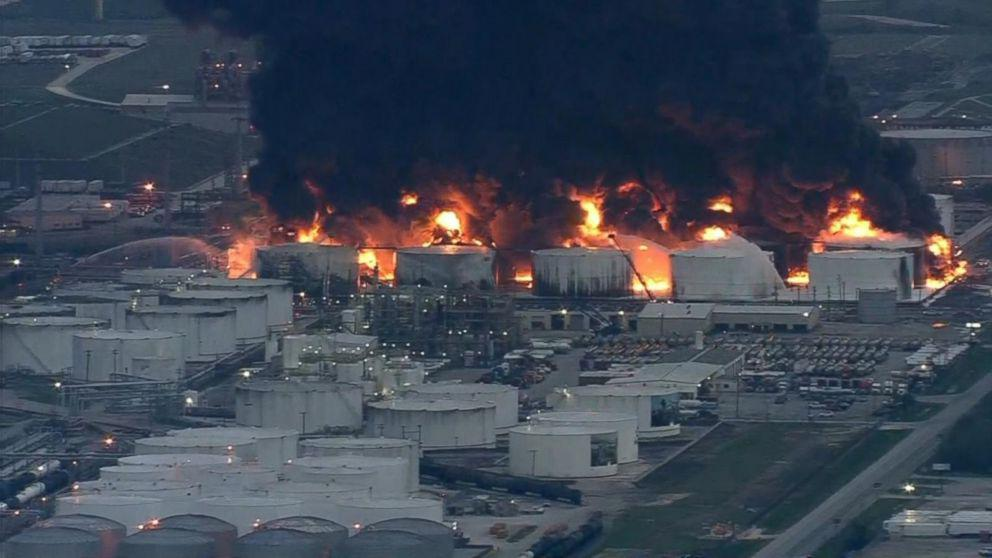fire: (229, 185, 510, 277), (536, 185, 739, 290), (814, 182, 893, 242), (920, 229, 971, 292), (782, 268, 815, 291)
